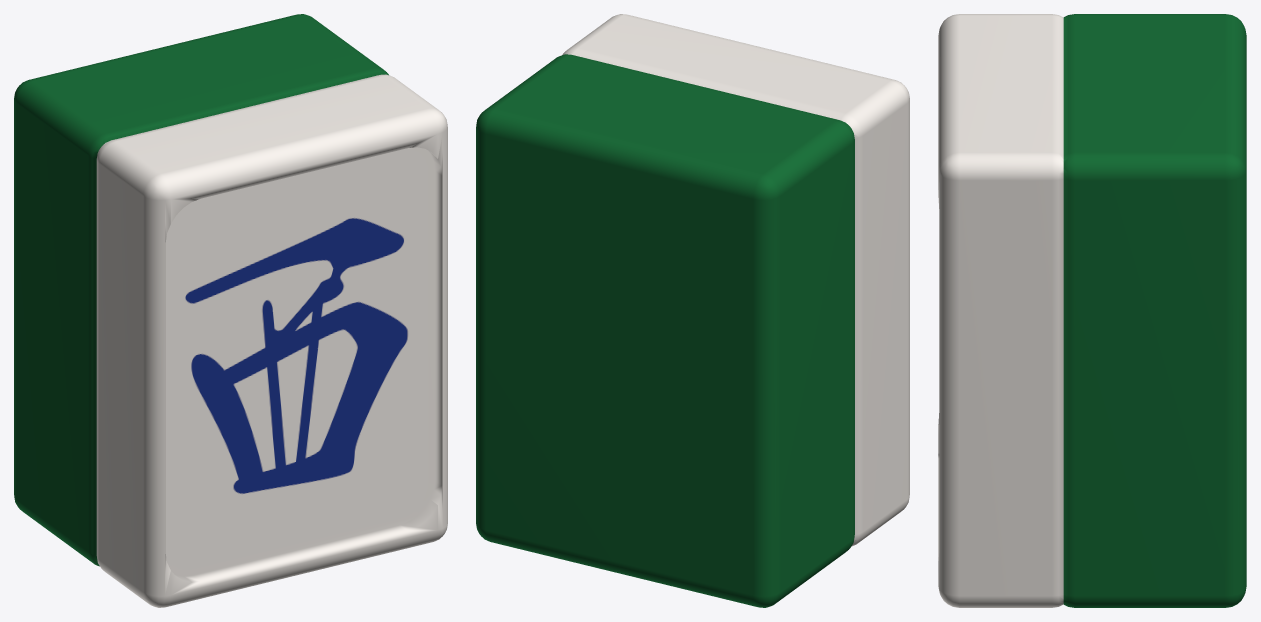
Rendered from sha-rxv3q0a5.glb.
3 renders of one model, left to right at view 1: azimuth 30°, elevation 25°; view 2: azimuth 150°, elevation 25°; view 3: azimuth 270°, elevation 25°, orthographic. The views are drawn at different scales.
Parts seen in each view (by area): view 1: TileBody, FacePanel; view 2: TileBody; view 3: TileBody.
Boxes of the visible parts, bbox=[...] form: TileBody: bbox=[14, 14, 447, 607]; FacePanel: bbox=[165, 148, 428, 569]; TileBody: bbox=[476, 14, 909, 607]; TileBody: bbox=[938, 14, 1246, 607].
Bounding box in the file's own units: 19 × 26 × 16.
3 materials, 1 textured.
